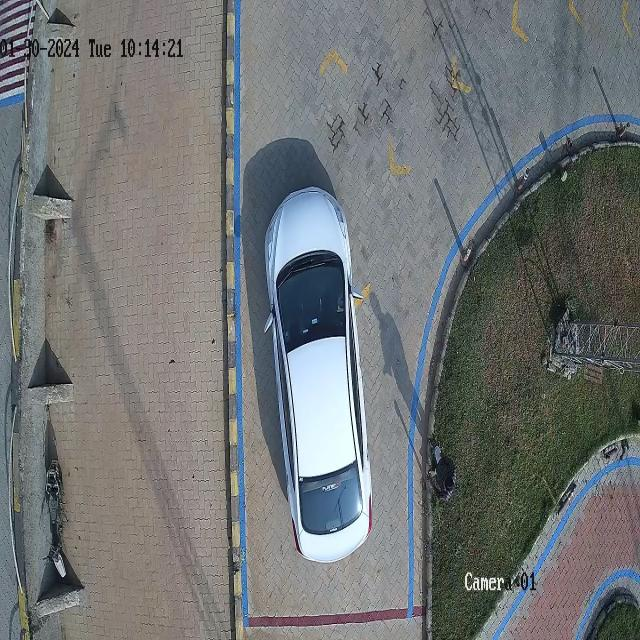car: (265, 187, 371, 561)
